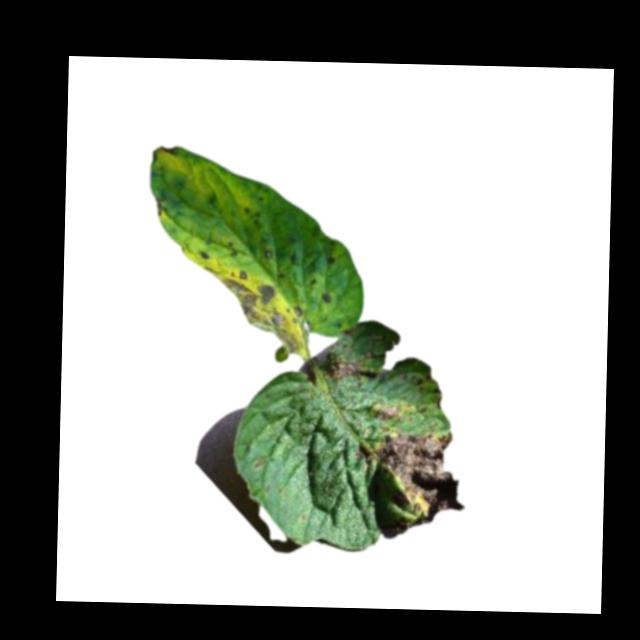Early_blight: (356, 429, 468, 532), (216, 270, 310, 360), (319, 352, 360, 383), (149, 143, 179, 164), (373, 400, 402, 421), (325, 249, 335, 264)
